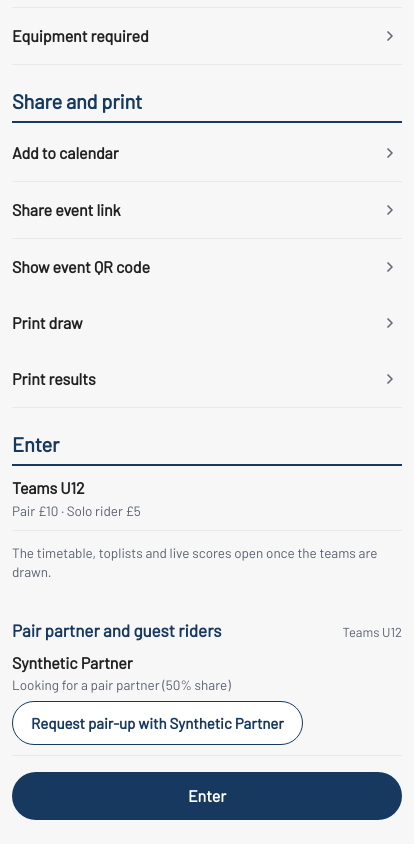
Test: DetailsTab matchmaker › says so when a pair-up request cannot be sent
The width and height of the screenshot is (414, 844).
(page scrolled)
Click the button "Request pair-up with Synthetic Partner". click: click(157, 723)
box: 12,701 -> 303,745
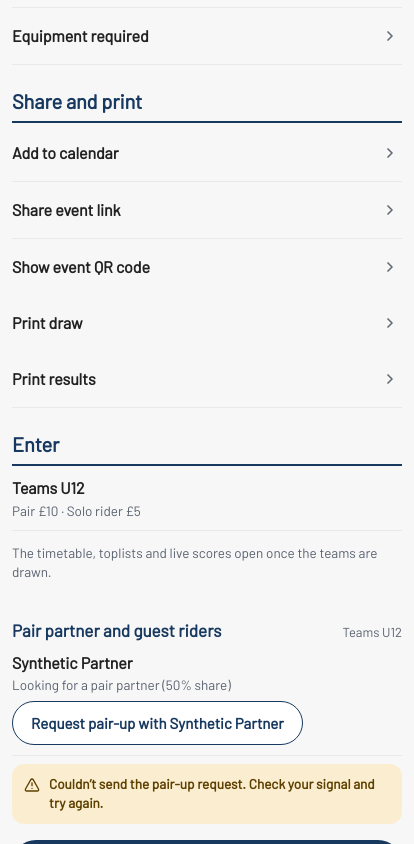
Expected: the message shows "Couldn’t send the pair-up request", 49,775 -> 375,811
